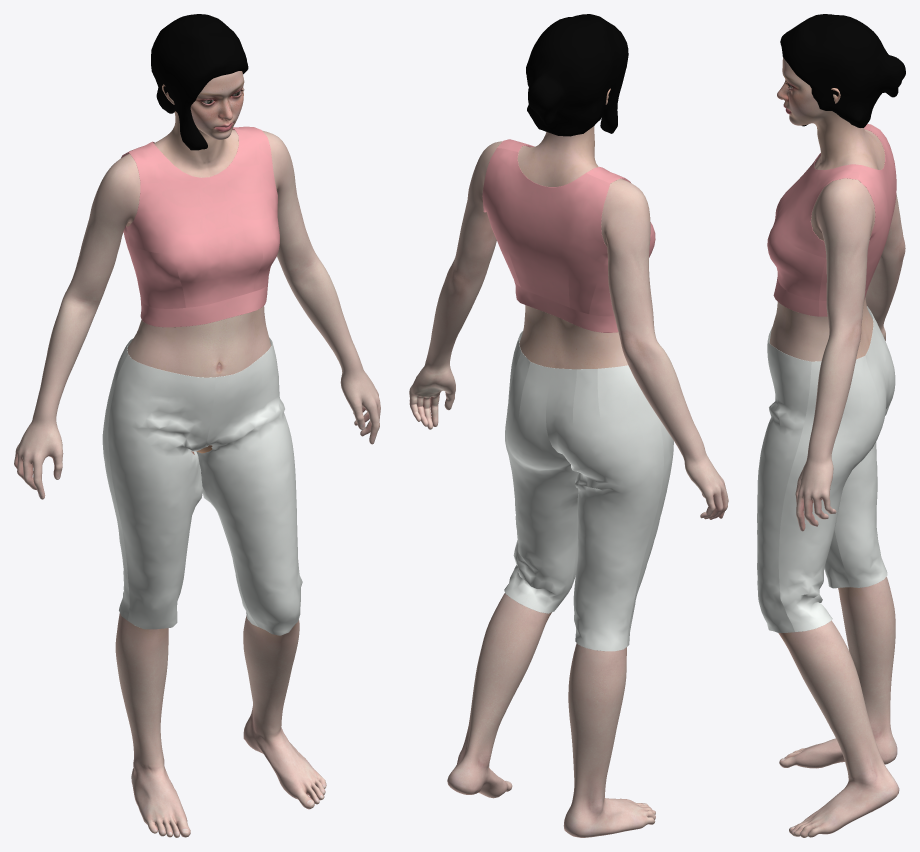
The model's file is Dramatic.obj.
The picture shows the model from 3 angles, left to right: view 1: azimuth 30°, elevation 25°; view 2: azimuth 150°, elevation 25°; view 3: azimuth 270°, elevation 25°; orthographic projection. The views are drawn at different scales.
Size of the model in its own units: 775 by 1773 by 310.
